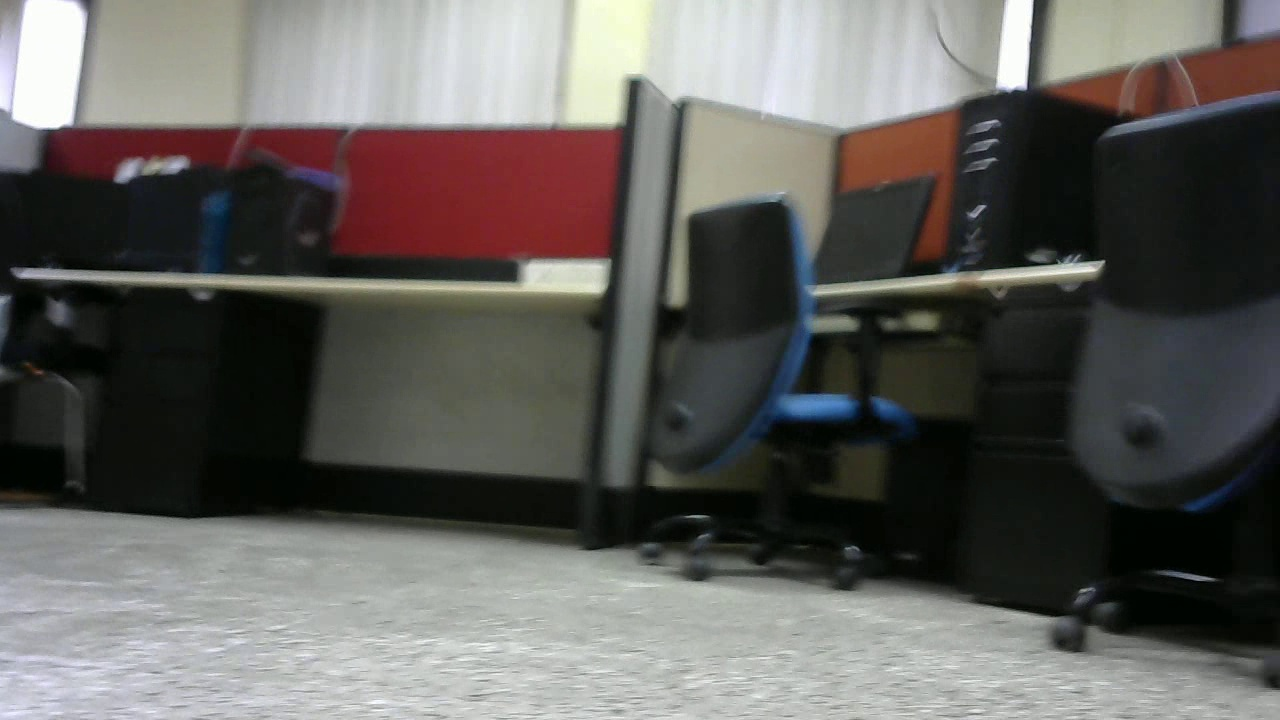chair: (629, 191, 922, 597)
